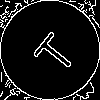T: (25, 25, 80, 78)
